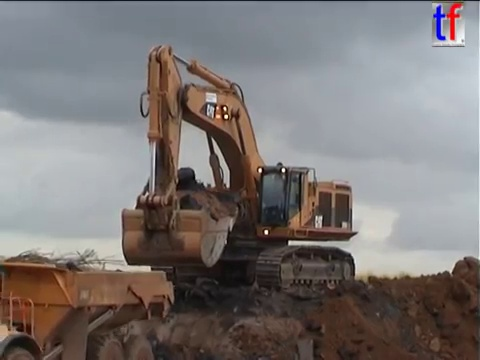excavator: (118, 41, 361, 302)
truck: (1, 256, 176, 360)
